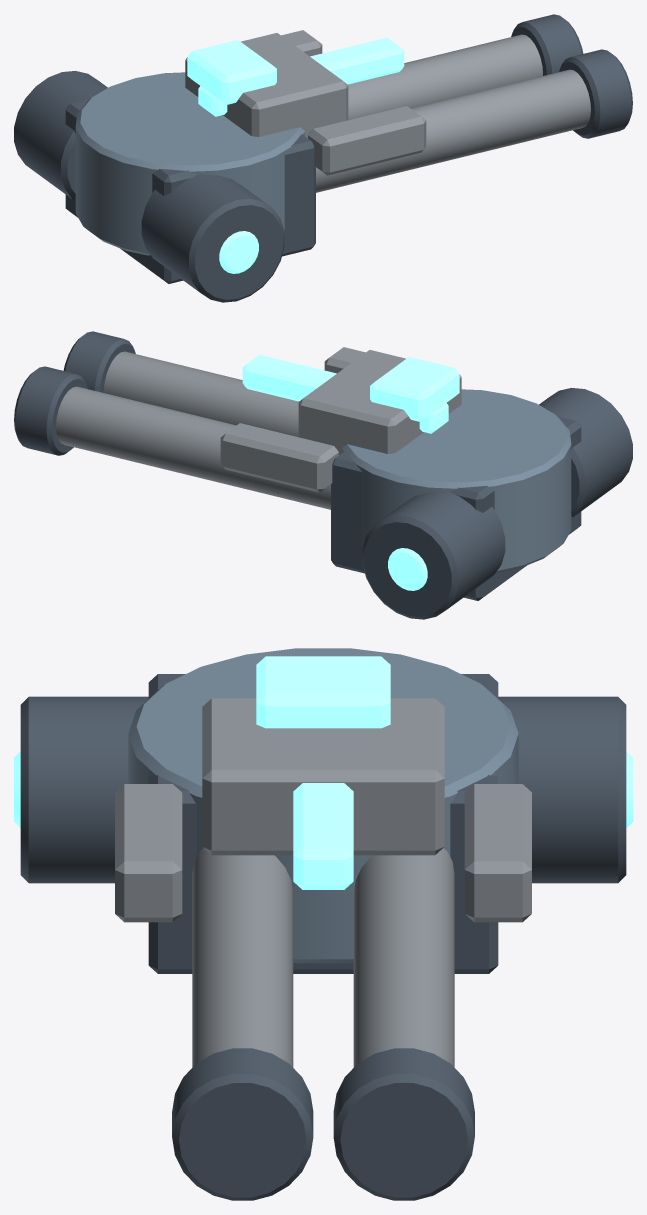
Rendered from gun_turret_l3.glb.
3 renders of one model, top to bottom at view 1: azimuth 30°, elevation 25°; view 2: azimuth 150°, elevation 25°; view 3: azimuth 270°, elevation 25°, orthographic. The views are drawn at different scales.
Visible parts, largest first — view 1: Cylinder, Cylinder.005, Cylinder.001, Cylinder.003, Cube.001, Cylinder.007, Cube.004, Cube, Cylinder.002, Cube.002, Cube.003, Cylinder.004 (+2 smaller); view 2: Cylinder, Cylinder.007, Cylinder.003, Cylinder.001, Cube.001, Cylinder.005, Cube.005, Cube, Cylinder.004, Cube.002, Cube.003, Cylinder.002 (+2 smaller); view 3: Cube.001, Cylinder, Cylinder.001, Cylinder.003, Cylinder.005, Cylinder.007, Cylinder.002, Cylinder.004, Cube, Cube.002, Cube.004, Cube.005 (+1 smaller).
Part boxes in pixels (box(x1,y1,x2,y2)): Cylinder: box(75, 72, 304, 255); Cylinder.005: box(141, 174, 284, 302); Cylinder.001: box(316, 69, 590, 192); Cylinder.003: box(348, 34, 542, 120); Cube.001: box(185, 33, 348, 138); Cylinder.007: box(14, 71, 107, 200); Cube.004: box(308, 106, 426, 175); Cube: box(65, 99, 315, 283); Cylinder.002: box(559, 49, 632, 138); Cube.002: box(187, 40, 276, 104); Cube.003: box(198, 37, 404, 116); Cylinder.004: box(511, 14, 583, 75); Cylinder: box(342, 389, 571, 572); Cylinder.007: box(362, 491, 505, 619); Cylinder.003: box(56, 386, 330, 509); Cylinder.001: box(104, 351, 298, 437); Cube.001: box(298, 350, 461, 455); Cylinder.005: box(539, 388, 632, 517); Cube.005: box(220, 423, 338, 492); Cube: box(331, 416, 581, 600); Cylinder.004: box(14, 366, 87, 455); Cube.002: box(370, 357, 459, 421); Cube.003: box(242, 354, 448, 433); Cylinder.002: box(63, 331, 135, 392); Cube.001: box(202, 698, 444, 855); Cylinder: box(128, 648, 518, 963); Cylinder.001: box(192, 848, 293, 1067); Cylinder.003: box(353, 848, 454, 1067); Cylinder.005: box(20, 696, 148, 883); Cylinder.007: box(498, 696, 626, 883); Cylinder.002: box(172, 1048, 313, 1200); Cylinder.004: box(333, 1048, 474, 1200); Cube: box(148, 674, 498, 973); Cube.002: box(256, 656, 390, 728); Cube.004: box(115, 784, 182, 922); Cube.005: box(464, 784, 531, 922).
Bounding box in the file's own units: 1.44 × 0.45 × 0.92.
